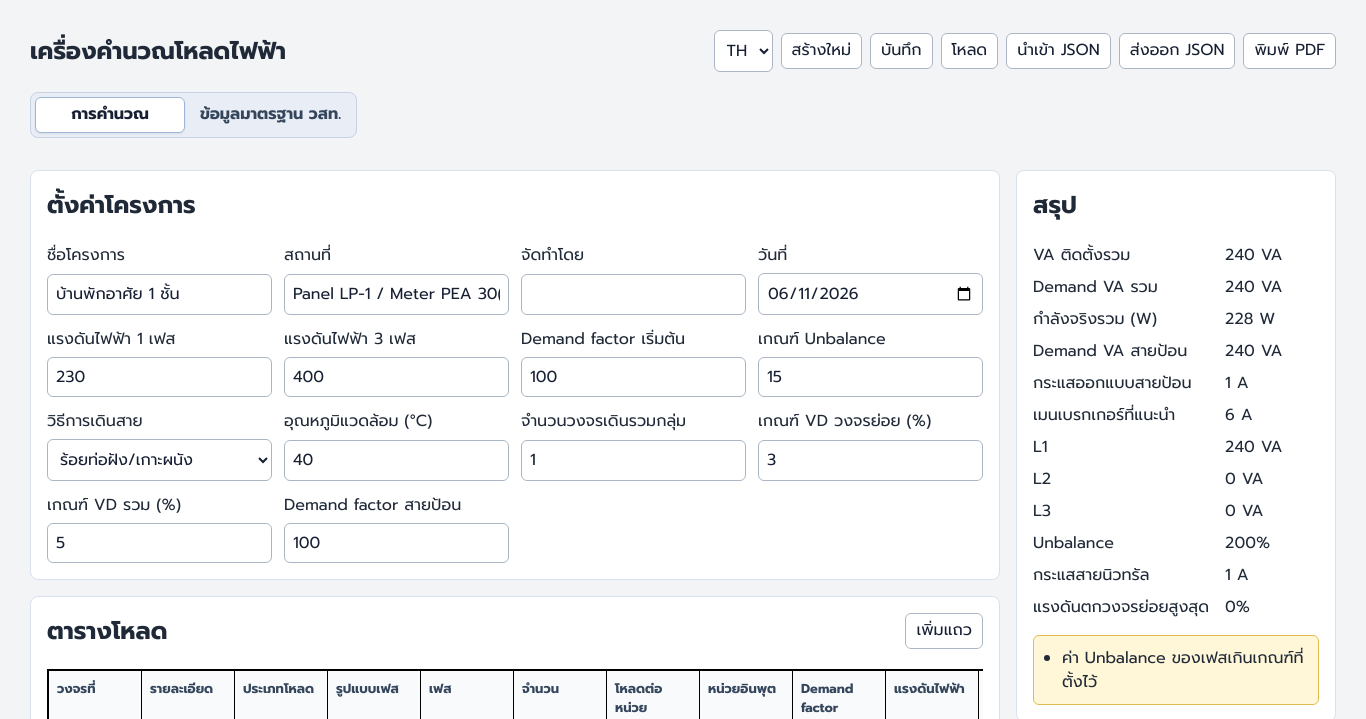
Test: App tabs › switches between calculation and EIT standards tabs
Expected: the tab "การคำนวณ" is shown, [35, 97, 185, 133]
Expected: the heading "ตารางโหลด" is shown, [47, 613, 167, 649]
Click the tab "ข้อมูลมาตรฐาน วสท." at (271, 115), box [189, 97, 352, 133]
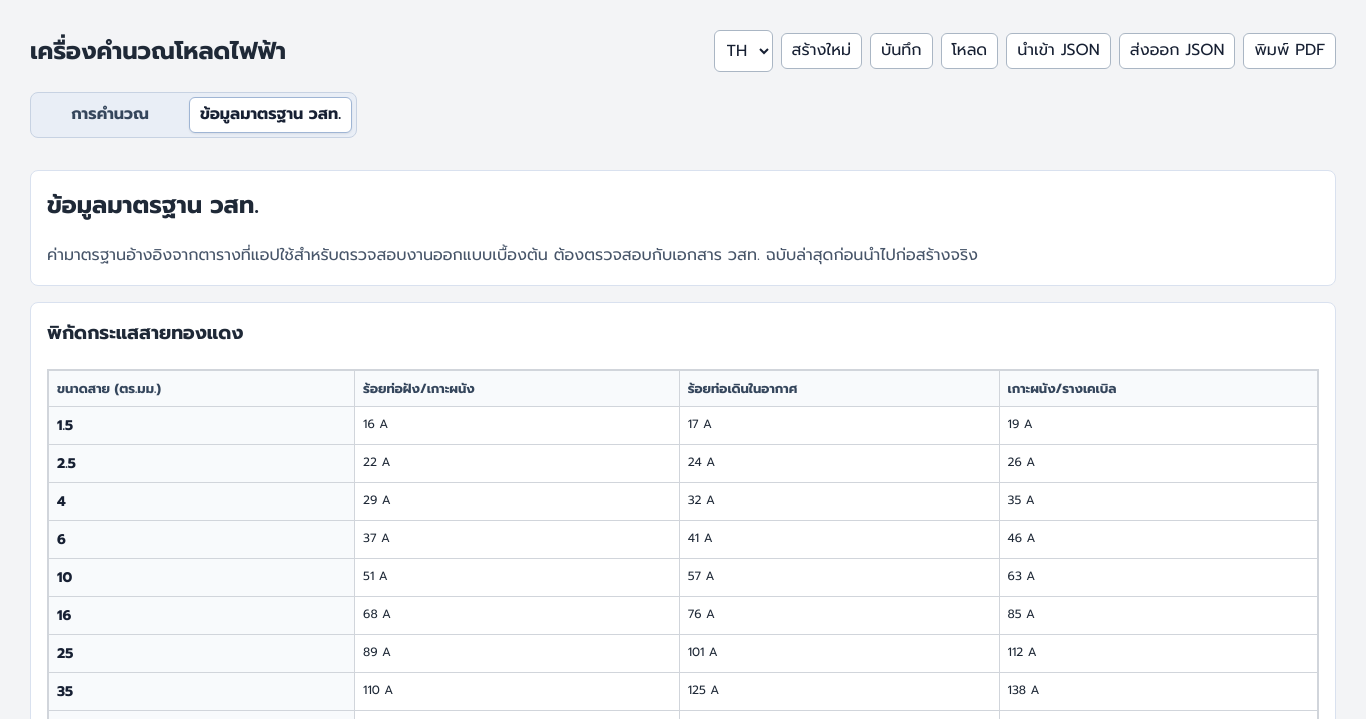
Expected: the heading "ข้อมูลมาตรฐาน วสท." is shown, [47, 187, 259, 223]
Expected: the heading "พิกัดกระแสสายทองแดง" is shown, [47, 318, 243, 346]
